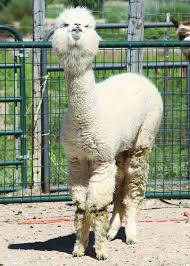alpaca: (49, 4, 164, 260)
